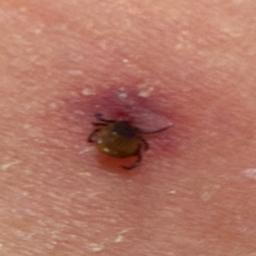Ixodes scapularis: (87, 111, 176, 166)
